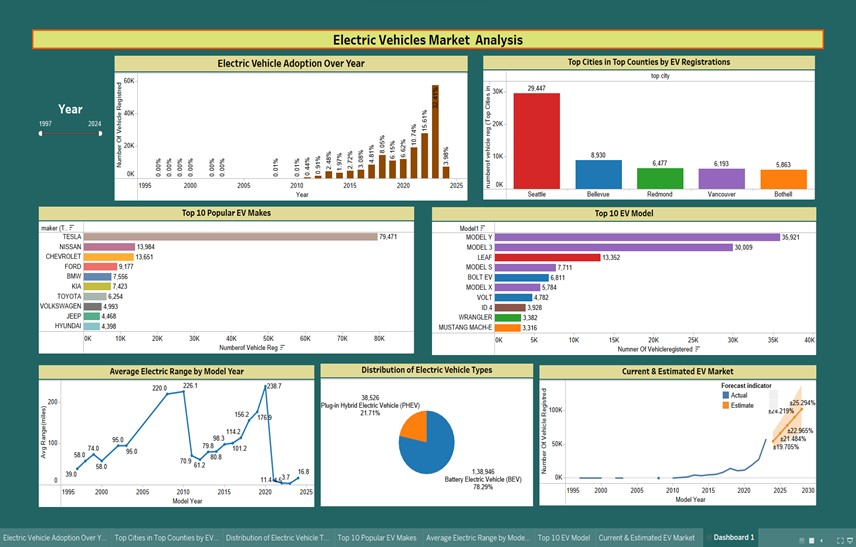

The page's visual inventory and layout, read from the dashboard file:
{"tool":"tableau","page":{"name":"Dashboard 1","canvas":[1800,950],"ordinal":0},"visuals":[{"type":"title","box":[8,8,1784,47]},{"type":"worksheet","title":"Electric Vehicle Adoption Over Year","mark":"Bar","rows":["number_of_vehicle_registred"],"cols":["year"],"box":[197,64,792,286]},{"type":"worksheet","title":"Top Cities in Top Counties by EV Registrations","mark":"Automatic","rows":["numberof_vehicle_reg (Top Cities in Top Counties by EV Regis"],"cols":["city (Top Cities in Top Counties by EV Registrations.csv)"],"box":[1024,64,744,284]},{"type":"filter","title":"Electric Vehicle Adoption Over Year","param":"[federated.0kthwok0d31j0s1eqe7gj0lx3nwg].[none:year:qk]","box":[22,151,152,92]},{"type":"worksheet","title":"Top 10 Popular EV Makes","mark":"Automatic","rows":["maker (Top 10 Popular EV Makes.csv)"],"cols":["numberof_vehicle_reg"],"box":[27.5,362,842.2,290]},{"type":"worksheet","title":"Top 10 EV Model","mark":"Automatic","rows":["model"],"cols":["numner_of_vehicleregistered"],"box":[908.5,363,862.1,292]},{"type":"worksheet","title":"Distribution of Electric Vehicle Types","mark":"Pie","box":[659.4,672,477.5,282]},{"type":"worksheet","title":"Current & Estimated EV Market","mark":"Automatic","rows":["number_of_vehicle_registred"],"cols":["modelYear"],"box":[1150.1,675,621.5,277]},{"type":"legend","title":"Current & Estimated EV Market","param":"[federated.0kthwok0d31j0s1eqe7gj0lx3nwg].[none:Forecast Indicator:nk]","box":[1558.4,708,128.8,55]}]}

Visuals, with their boxes on the page's 1800x950 design canvas (x1, y1, x2, y2). These are canvas units, not pixel positions in the 856x547 screenshot, which may show the page scaled, cropped or inside an application window:
title: detection(8, 8, 1792, 55)
"Electric Vehicle Adoption Over Year" worksheet (Bar marks): detection(197, 64, 989, 350)
"Top Cities in Top Counties by EV Registrations" worksheet: detection(1024, 64, 1768, 348)
"Electric Vehicle Adoption Over Year" filter: detection(22, 151, 174, 243)
"Top 10 Popular EV Makes" worksheet: detection(28, 362, 870, 652)
"Top 10 EV Model" worksheet: detection(908, 363, 1771, 655)
"Distribution of Electric Vehicle Types" worksheet (Pie marks): detection(659, 672, 1137, 954)
"Current & Estimated EV Market" worksheet: detection(1150, 675, 1772, 952)
"Current & Estimated EV Market" legend: detection(1558, 708, 1687, 763)
